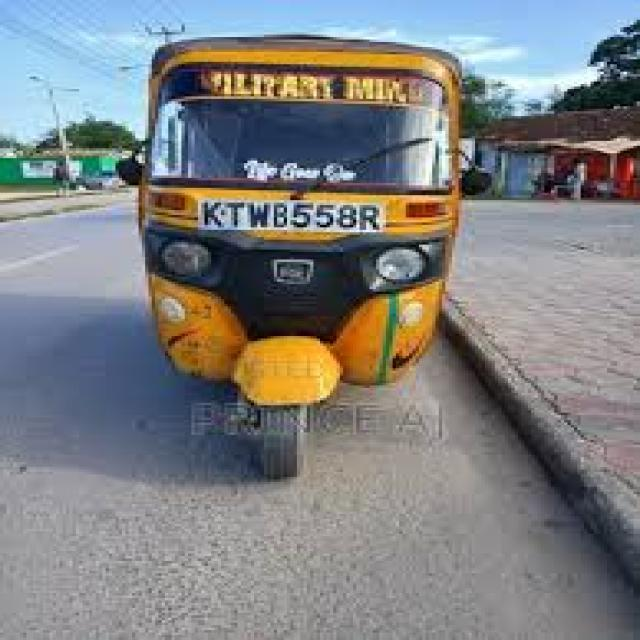tuktuk: (114, 17, 504, 504)
